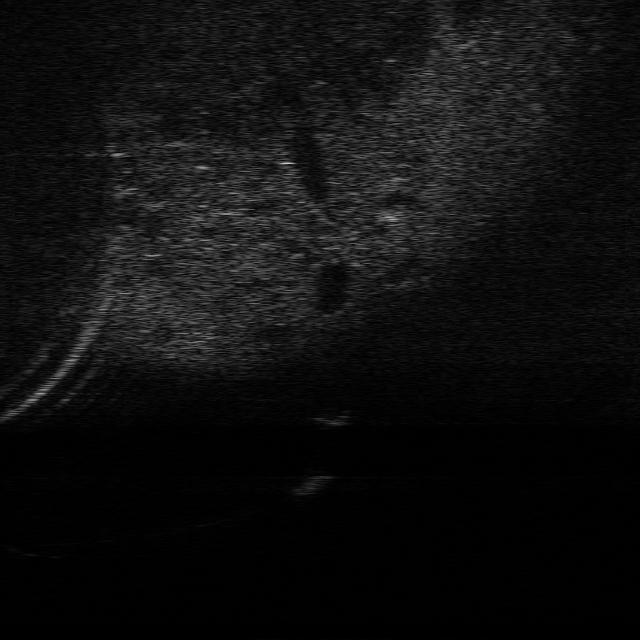cube: (318, 404, 350, 427)
cylinder: (298, 471, 328, 497)
